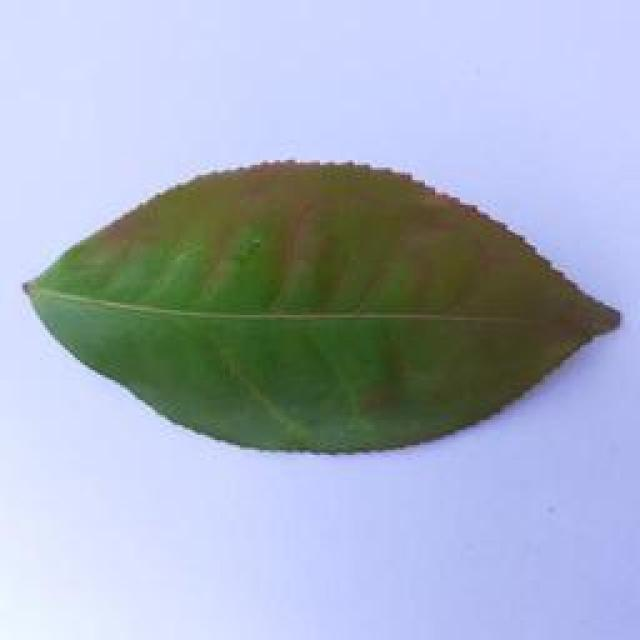Red Leaf Spot: (8, 148, 634, 458)
